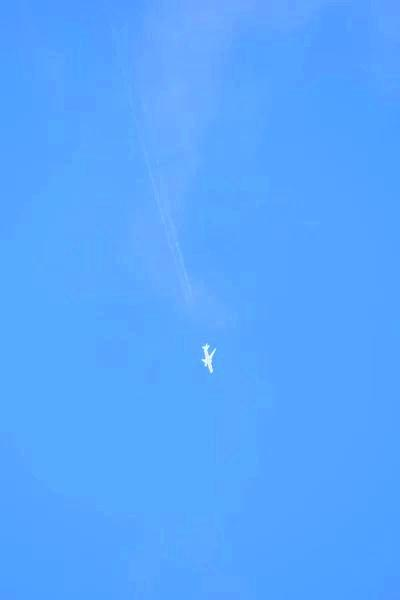Plane: (191, 332, 225, 384)
